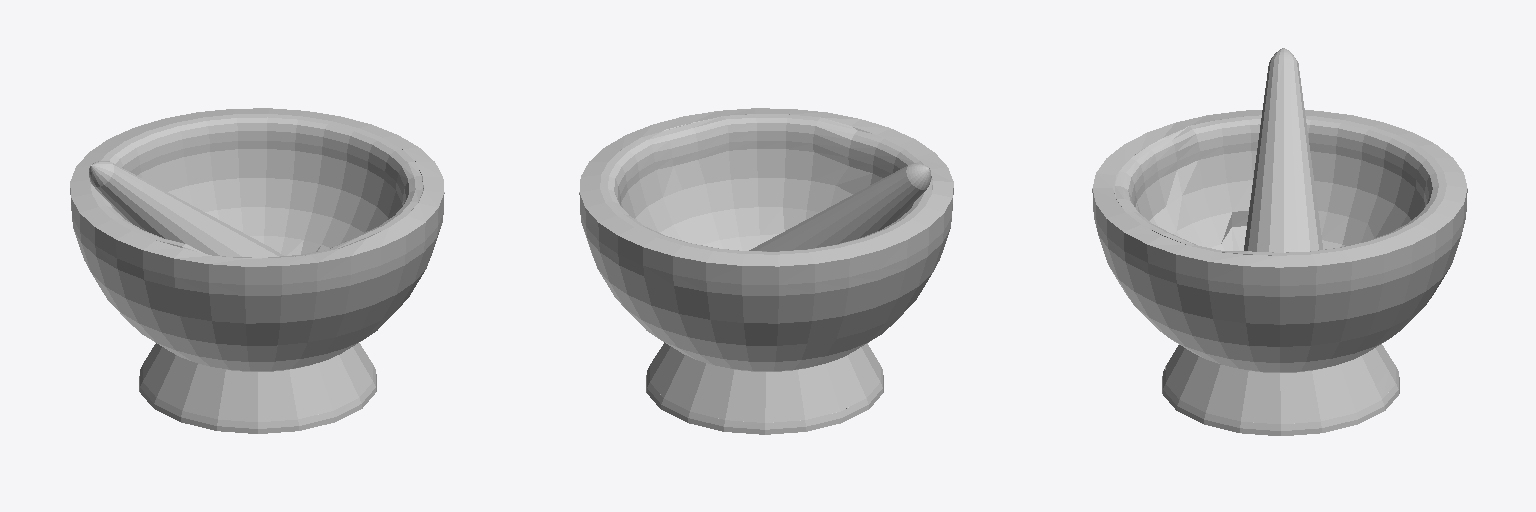
File: Mortar and Pestle.obj
The picture shows the model from 3 angles: view 1: azimuth 30°, elevation 25°; view 2: azimuth 150°, elevation 25°; view 3: azimuth 270°, elevation 25°; orthographic projection.
Parts seen in each view (by area): view 1: mortar, Cylinder001, Cylinder003; view 2: mortar, Cylinder001, Cylinder003; view 3: mortar, Cylinder001, Cylinder003.
Boxes of the visible parts, x1=… form: mortar: x1=70, y1=108, x2=444, y2=371; Cylinder001: x1=139, y1=343, x2=376, y2=433; Cylinder003: x1=89, y1=161, x2=283, y2=257; mortar: x1=579, y1=108, x2=953, y2=371; Cylinder001: x1=646, y1=342, x2=883, y2=434; Cylinder003: x1=749, y1=163, x2=930, y2=251; mortar: x1=1092, y1=110, x2=1467, y2=372; Cylinder001: x1=1162, y1=344, x2=1399, y2=435; Cylinder003: x1=1244, y1=48, x2=1322, y2=252.
Bounding box in the file's own units: 17.02 × 12.91 × 16.89.